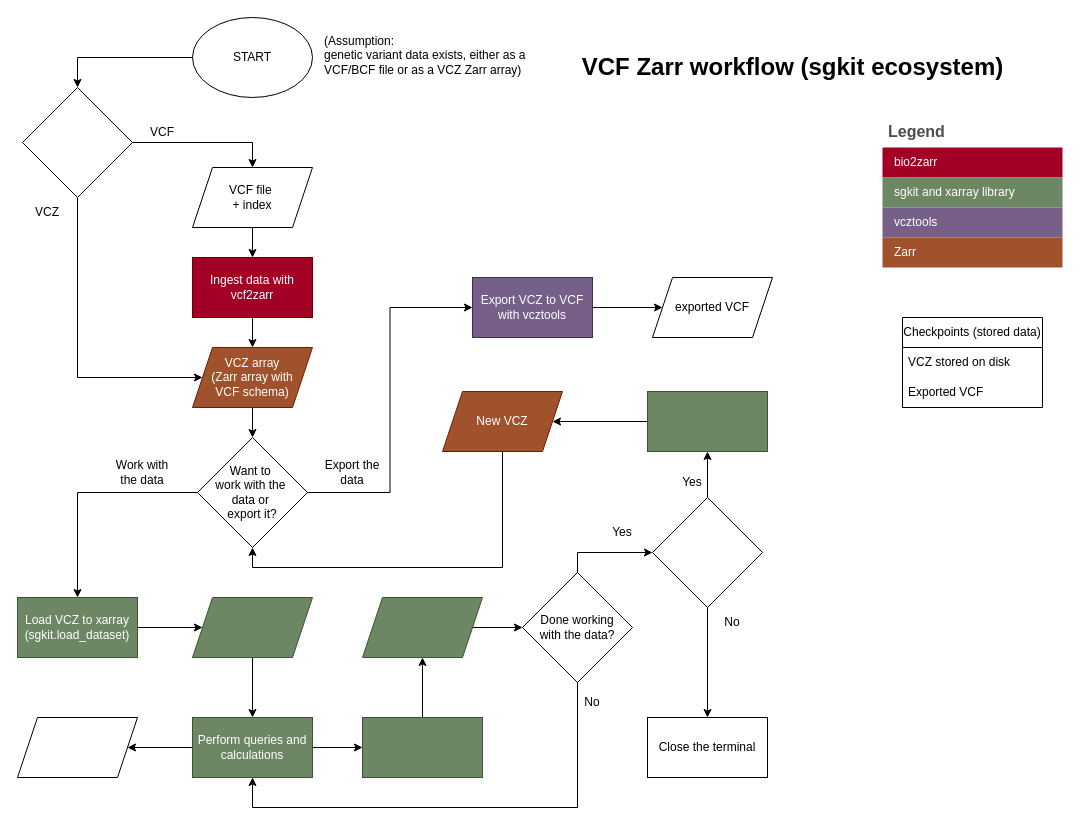
The diagram is 1080 pixels wide and 833 high, and some of its shapes have lost their labels. Here are the shapes that lost their labels. From the top down, the centre of each, then its label:
(x=77, y=142): What form is your data in?
(x=707, y=421): Export xarray to VCZ (sgkit.save_dataset)
(x=707, y=552): Save the new dataset?
(x=252, y=627): xarray dataset
(x=422, y=627): New xarray dataset
(x=77, y=747): Results (initially as python objects or stdout)
(x=422, y=747): Transform data (subset and/or enrich with new variables)
